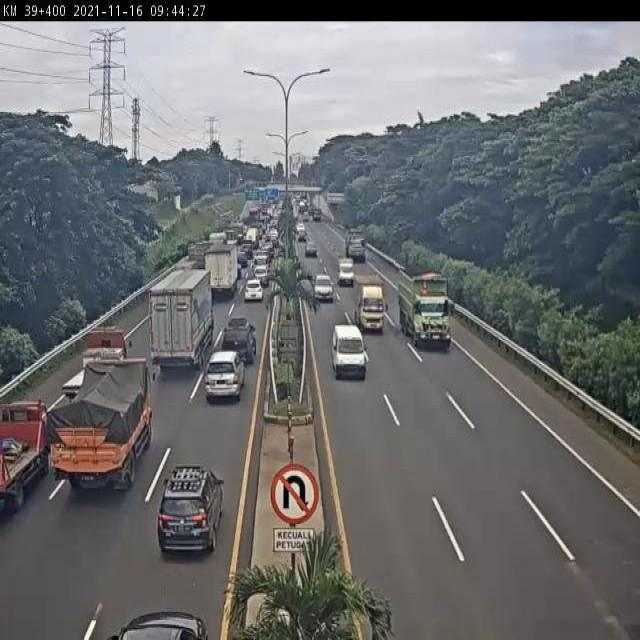car: (158, 464, 223, 560), (328, 323, 370, 381), (205, 348, 244, 405), (222, 317, 261, 373), (311, 268, 333, 311)
small truck: (1, 394, 56, 509), (335, 254, 356, 286)
truck-l-: (151, 269, 210, 371), (397, 269, 453, 356)
truck-m-: (46, 358, 156, 498), (59, 324, 131, 405), (353, 280, 389, 335), (206, 242, 239, 294)
